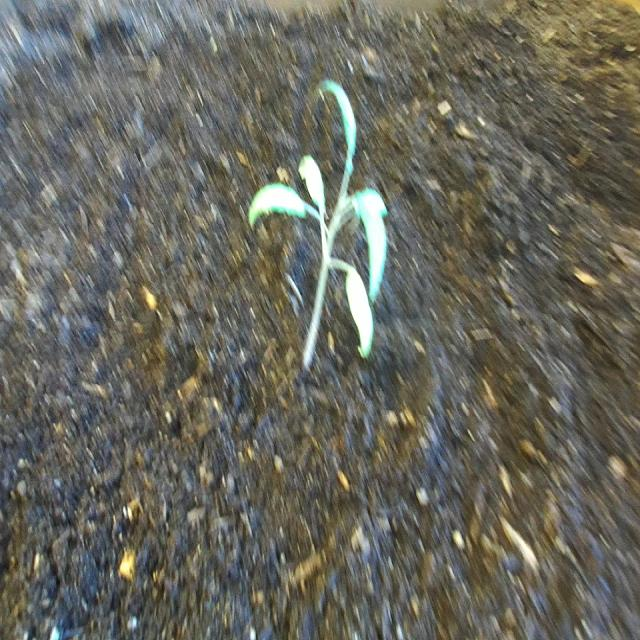Healthy: (245, 76, 397, 394)
